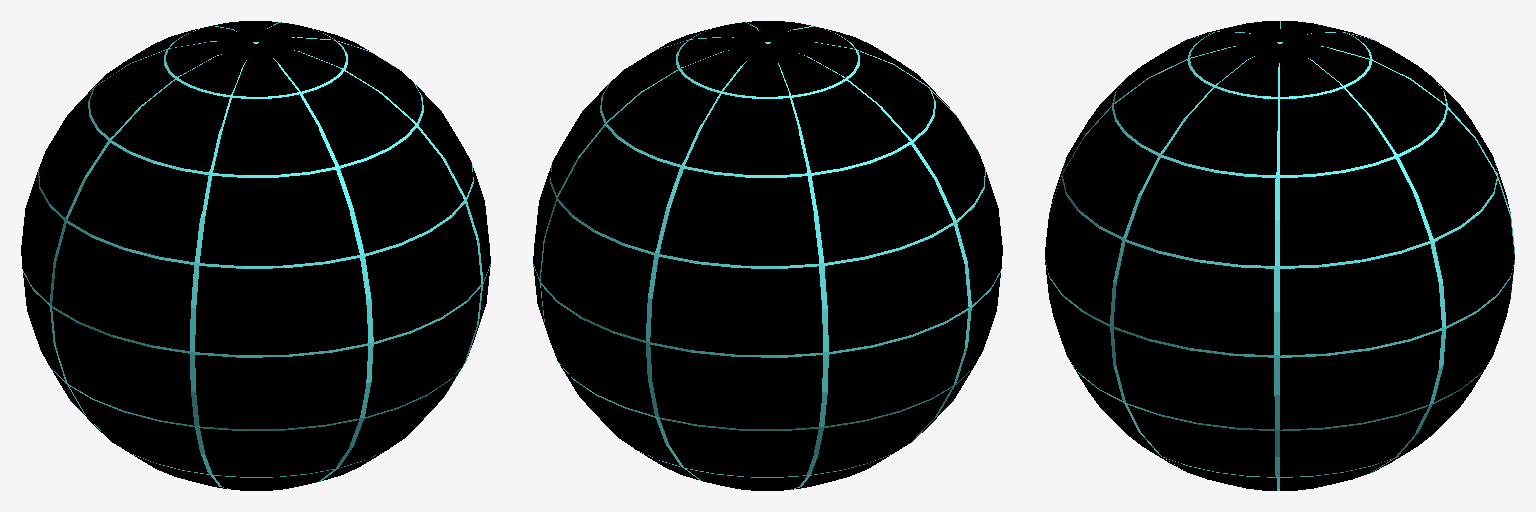
The picture shows the model from 3 angles: view 1: azimuth 30°, elevation 25°; view 2: azimuth 150°, elevation 25°; view 3: azimuth 270°, elevation 25°; orthographic projection.
Parts seen in each view (by area): view 1: 球; view 2: 球; view 3: 球.
Part boxes in pixels (bbox=[...]): 球: bbox=[21, 21, 490, 490]; 球: bbox=[533, 21, 1002, 490]; 球: bbox=[1045, 21, 1514, 490].
Bounding box in the file's own units: 2 × 2 × 2.
Materials: 1 (1 with a texture image).